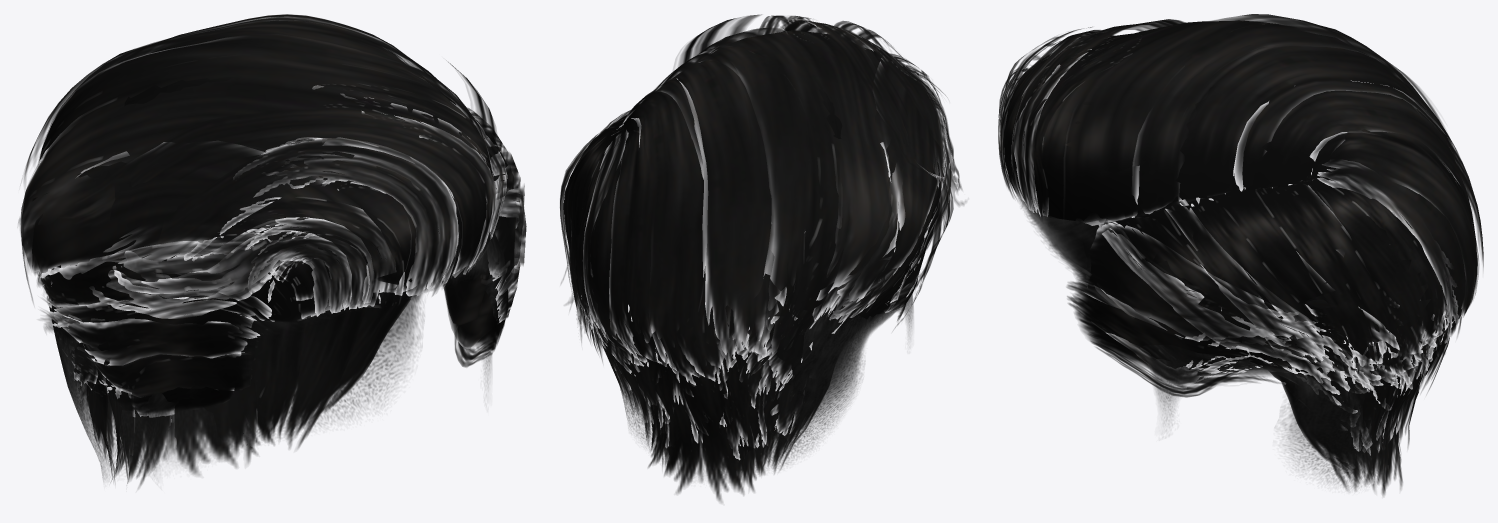
The model's file is MediumLengthWaves.glb.
3 views of the same model, side by side, from view 1: azimuth 30°, elevation 25°; view 2: azimuth 150°, elevation 25°; view 3: azimuth 270°, elevation 25° (orthographic). The views are drawn at different scales.
Parts seen in each view (by area): view 1: MEDIUM-LENGTH WAVES.002, MEDIUM-LENGTH WAVES.009, MEDIUM-LENGTH WAVES.007, MEDIUM-LENGTH WAVES.008, SCALP LEBAR, MEDIUM-LENGTH WAVES.005, MEDIUM-LENGTH WAVES.006, MEDIUM-LENGTH WAVES, MEDIUM-LENGTH WAVES.001, MEDIUM-LENGTH WAVES.010; view 2: MEDIUM-LENGTH WAVES.002, MEDIUM-LENGTH WAVES.009, SCALP LEBAR, MEDIUM-LENGTH WAVES.007, MEDIUM-LENGTH WAVES.008, MEDIUM-LENGTH WAVES.010, MEDIUM-LENGTH WAVES.006, MEDIUM-LENGTH WAVES.005; view 3: MEDIUM-LENGTH WAVES.002, MEDIUM-LENGTH WAVES.009, SCALP LEBAR, MEDIUM-LENGTH WAVES, MEDIUM-LENGTH WAVES.006, MEDIUM-LENGTH WAVES.007, MEDIUM-LENGTH WAVES.008, MEDIUM-LENGTH WAVES.005.
Boxes of the visible parts, x1,y1,x2,y2 form: MEDIUM-LENGTH WAVES.002: (18,14,524,488); MEDIUM-LENGTH WAVES.009: (24,27,493,228); MEDIUM-LENGTH WAVES.007: (61,109,495,277); MEDIUM-LENGTH WAVES.008: (107,139,459,291); SCALP LEBAR: (47,231,505,481); MEDIUM-LENGTH WAVES.005: (235,138,457,301); MEDIUM-LENGTH WAVES.006: (317,84,506,267); MEDIUM-LENGTH WAVES: (491,190,526,268); MEDIUM-LENGTH WAVES.001: (41,290,273,325); MEDIUM-LENGTH WAVES.010: (26,62,501,225); MEDIUM-LENGTH WAVES.002: (560,30,966,502); MEDIUM-LENGTH WAVES.009: (697,27,839,295); SCALP LEBAR: (616,294,913,473); MEDIUM-LENGTH WAVES.007: (779,19,940,177); MEDIUM-LENGTH WAVES.008: (826,29,945,185); MEDIUM-LENGTH WAVES.010: (673,14,761,70); MEDIUM-LENGTH WAVES.006: (758,15,828,41); MEDIUM-LENGTH WAVES.005: (834,21,919,77); MEDIUM-LENGTH WAVES.002: (999,21,1483,496); MEDIUM-LENGTH WAVES.009: (1064,14,1442,230); SCALP LEBAR: (1018,196,1393,487); MEDIUM-LENGTH WAVES: (1068,220,1288,338); MEDIUM-LENGTH WAVES.006: (1014,36,1140,217); MEDIUM-LENGTH WAVES.007: (1011,19,1185,212); MEDIUM-LENGTH WAVES.008: (1001,30,1114,185); MEDIUM-LENGTH WAVES.005: (998,27,1091,200).
Bounding box in the file's own units: 0.2484 × 0.2667 × 0.2585.
Materials: 2 (2 with a texture image).
